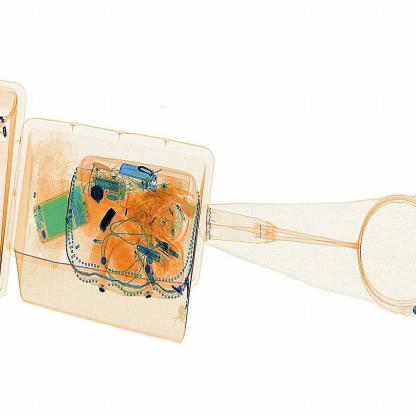scissors: (96, 207, 121, 233)
